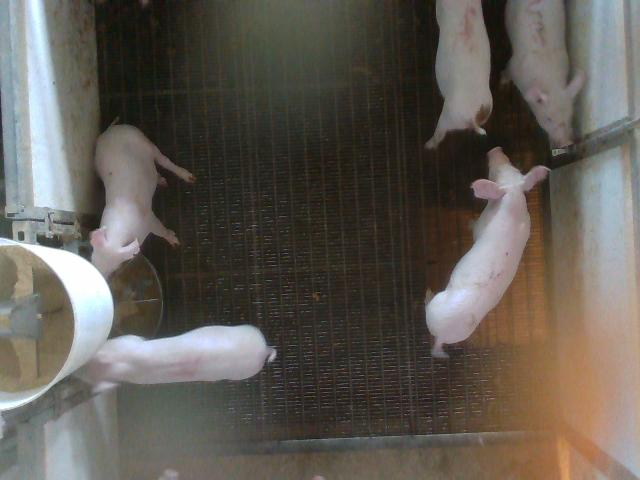pig-3: (504, 0, 585, 147)
pig-4: (75, 325, 275, 392)
pig-5: (425, 0, 491, 149)
